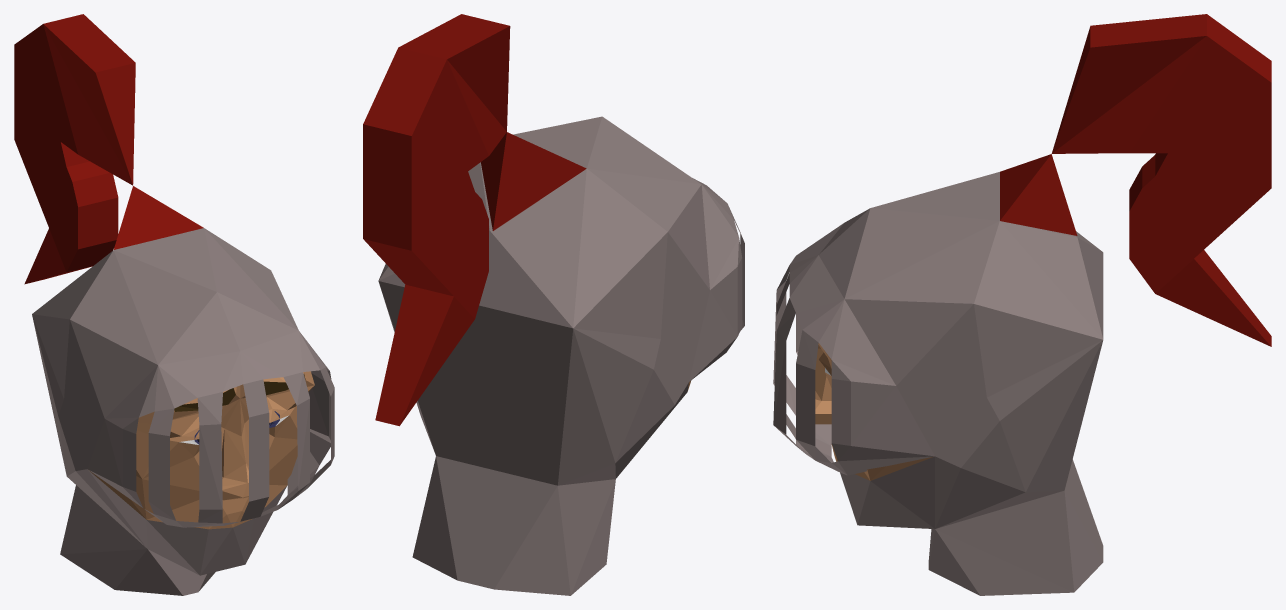
File: model_56_obj_wear.obj
3 views of the same model, side by side, from view 1: azimuth 30°, elevation 25°; view 2: azimuth 150°, elevation 25°; view 3: azimuth 270°, elevation 25° (orthographic). The views are drawn at different scales.
Parts seen in each view (by area): view 1: 56; view 2: 56; view 3: 56.
Boxes of the visible parts, <box> form: 56: <box>14,14,334,595</box>; 56: <box>363,14,744,595</box>; 56: <box>773,14,1271,595</box>.
Size of the model in its own units: 82 by 184 by 154.
